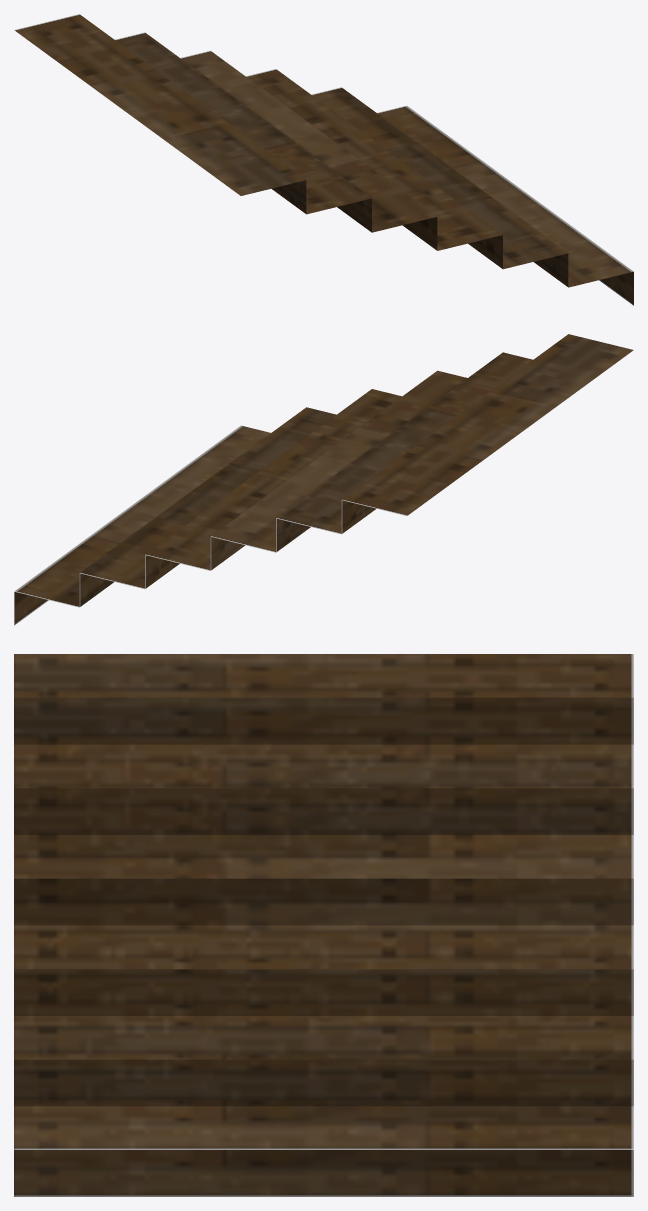
Rendered from Stair_Half_03.fbx.
3 views of the same model, one above another, from view 1: azimuth 30°, elevation 25°; view 2: azimuth 150°, elevation 25°; view 3: azimuth 270°, elevation 25° (orthographic). The views are drawn at different scales.
Visible parts, largest first — view 1: Stair_Half_03; view 2: Stair_Half_03; view 3: Stair_Half_03.
Boxes of the visible parts, x1,y1,x2,y2 form: Stair_Half_03: (14, 14, 633, 305); Stair_Half_03: (14, 334, 633, 625); Stair_Half_03: (14, 654, 633, 1196).
Bounding box in the file's own units: 600 × 300 × 600.
